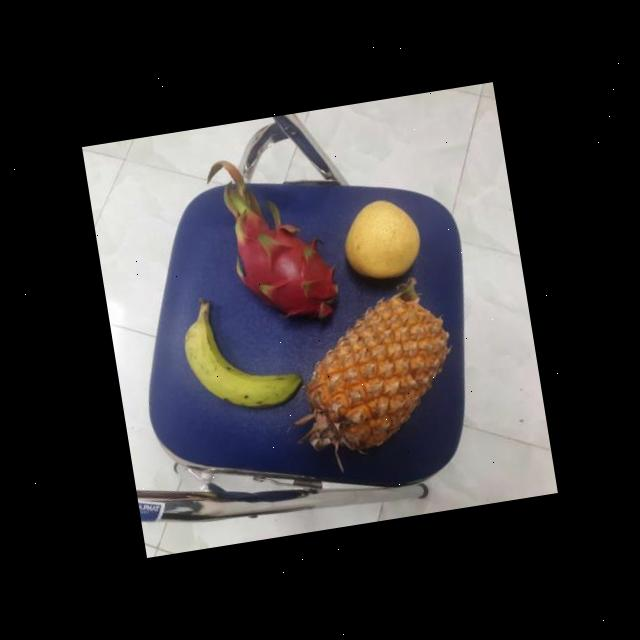banana: (174, 291, 304, 421)
pear: (334, 195, 426, 288)
pineapple: (286, 286, 456, 456)
pitaya: (228, 212, 344, 331)
